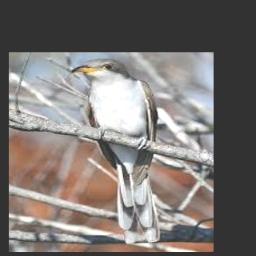Cuckoo: (71, 59, 159, 242)
